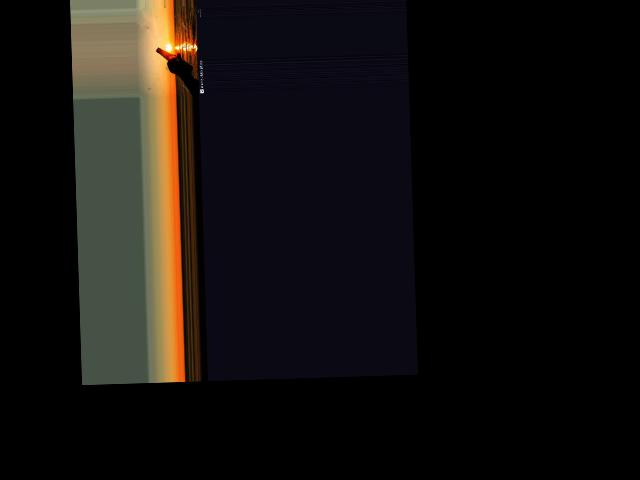beer: (155, 46, 193, 75)
